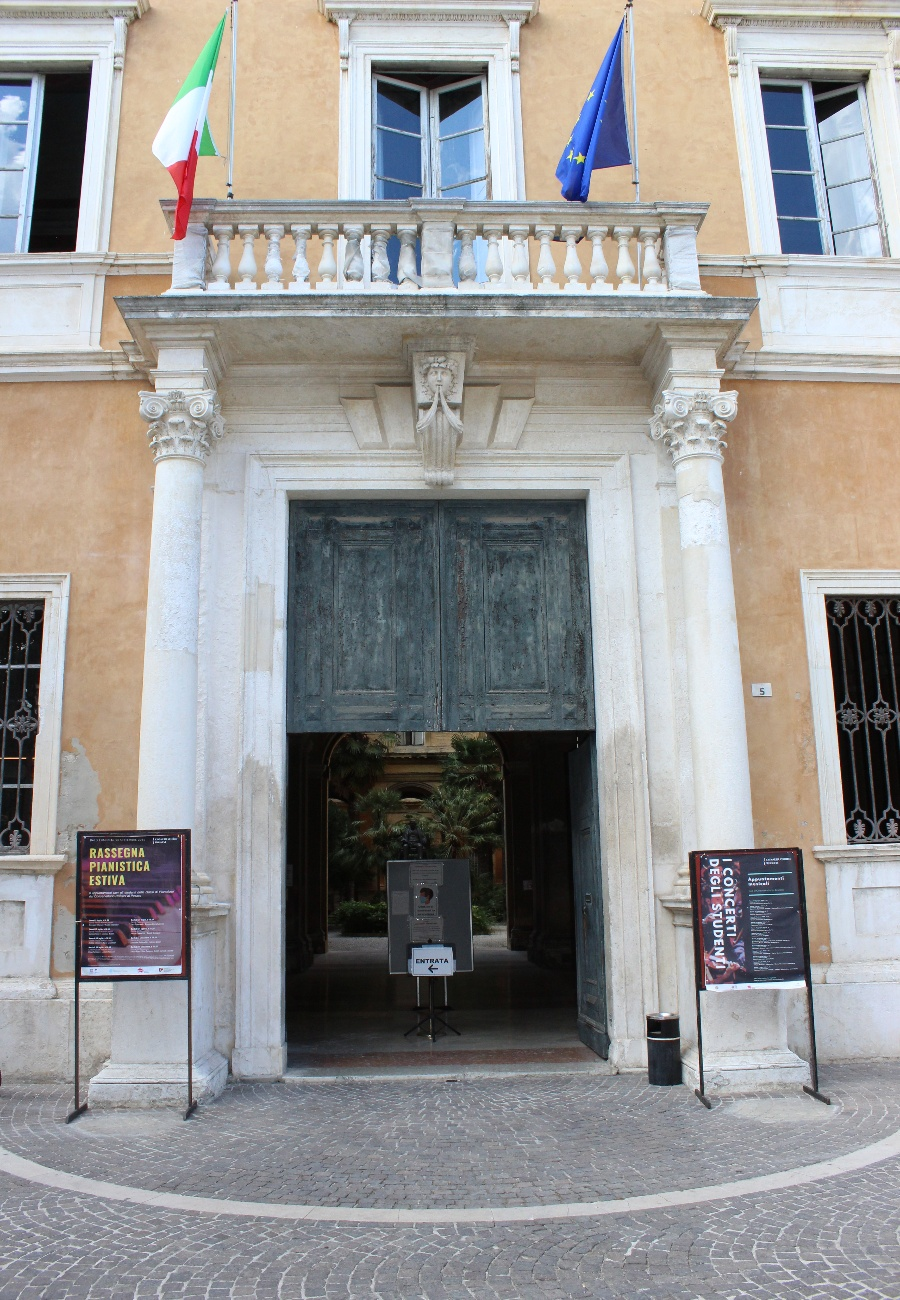Palazzo Olivieri: (91, 11, 804, 1104)
